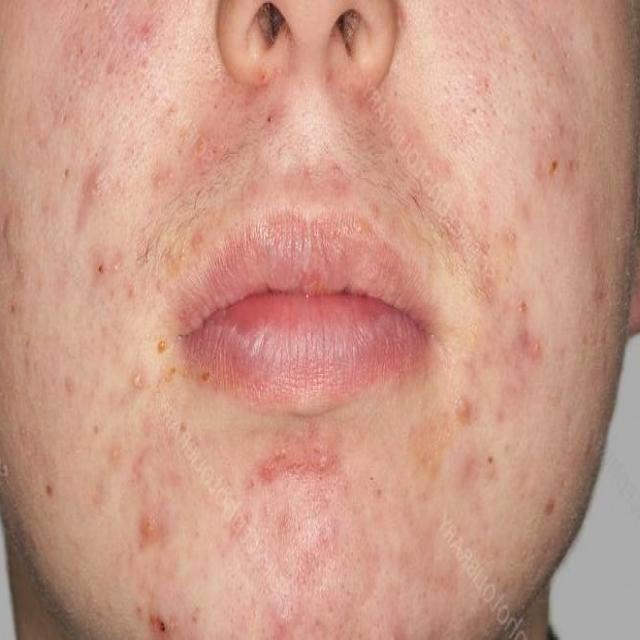Pimples: (515, 317, 544, 362), (138, 504, 168, 546), (85, 164, 109, 210), (453, 393, 473, 419), (142, 13, 156, 45), (542, 495, 558, 519), (64, 368, 77, 396), (42, 480, 56, 506), (546, 153, 558, 180), (134, 369, 144, 396), (516, 294, 528, 316), (318, 453, 331, 473), (97, 258, 108, 280), (486, 448, 496, 468), (62, 162, 71, 182)
